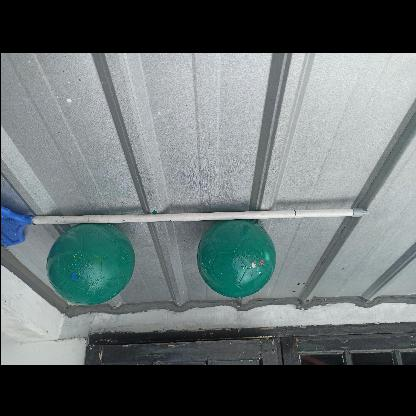green_ball: (47, 220, 137, 310), (198, 220, 274, 298)
